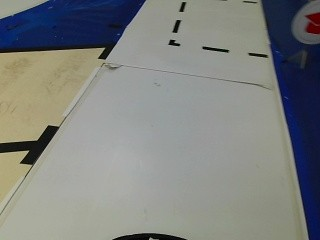school: (292, 0, 320, 47)
